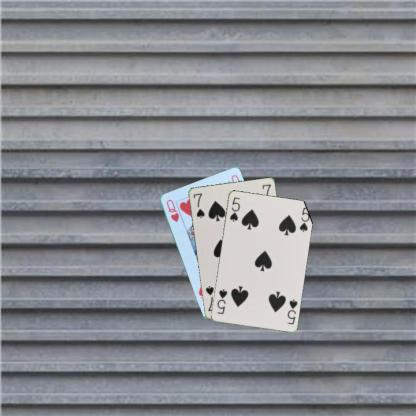5s: (285, 296, 299, 326), (227, 194, 241, 223)
7s: (190, 190, 206, 219)
Qh: (164, 196, 180, 223)
